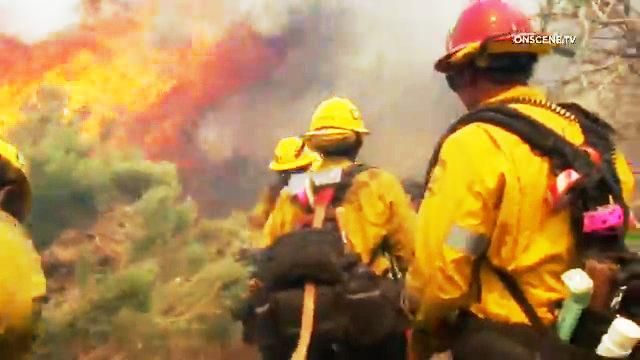fire: (3, 18, 191, 148)
